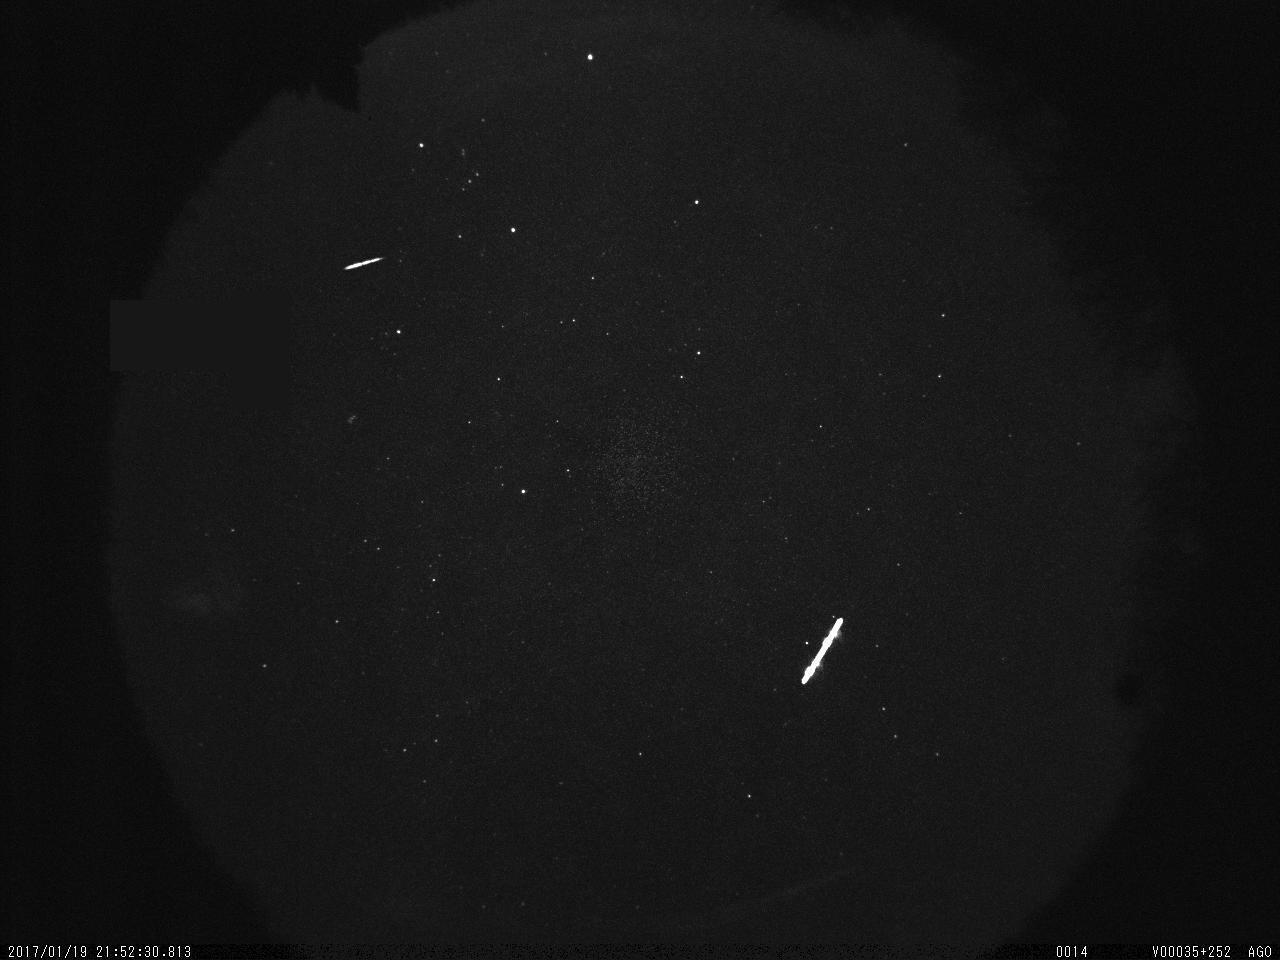meteor: (332, 246, 396, 279)
satelite: (789, 607, 862, 696)
